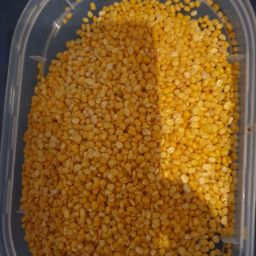Red Split Lentils(malka masar): (47, 29, 172, 256), (29, 103, 186, 248), (79, 38, 230, 185)
